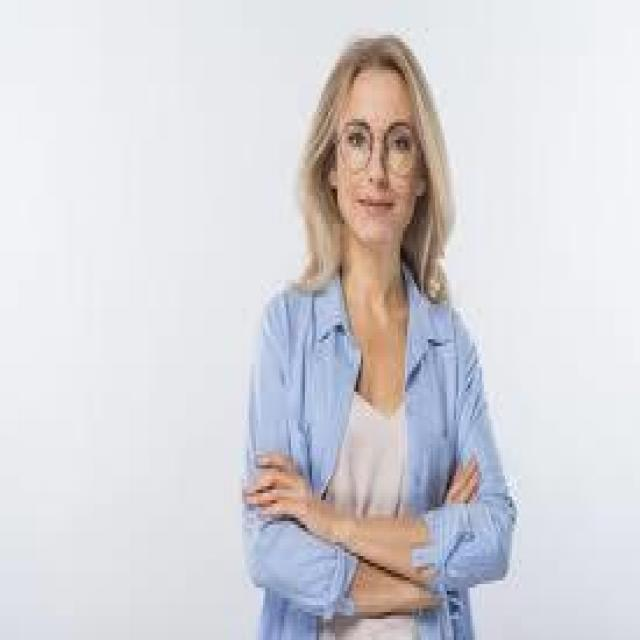person: (184, 14, 554, 636)
